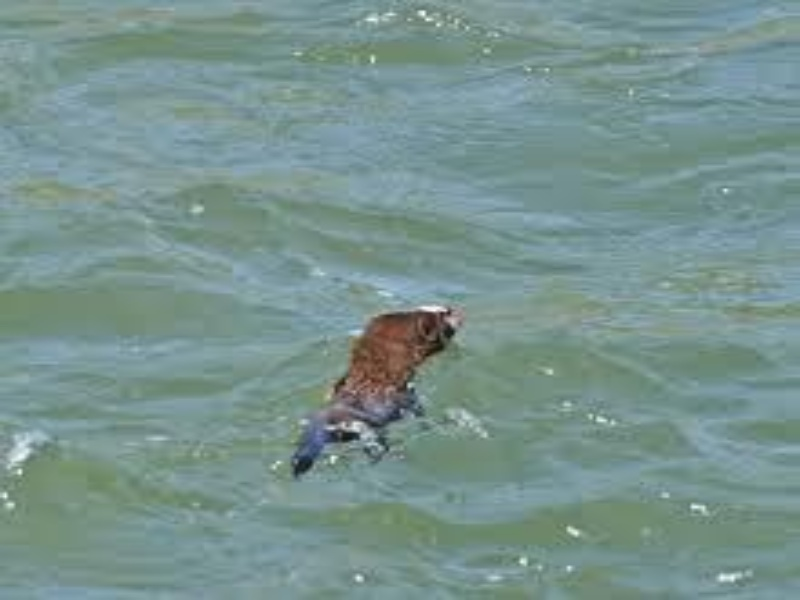minkish: (288, 300, 462, 479)
